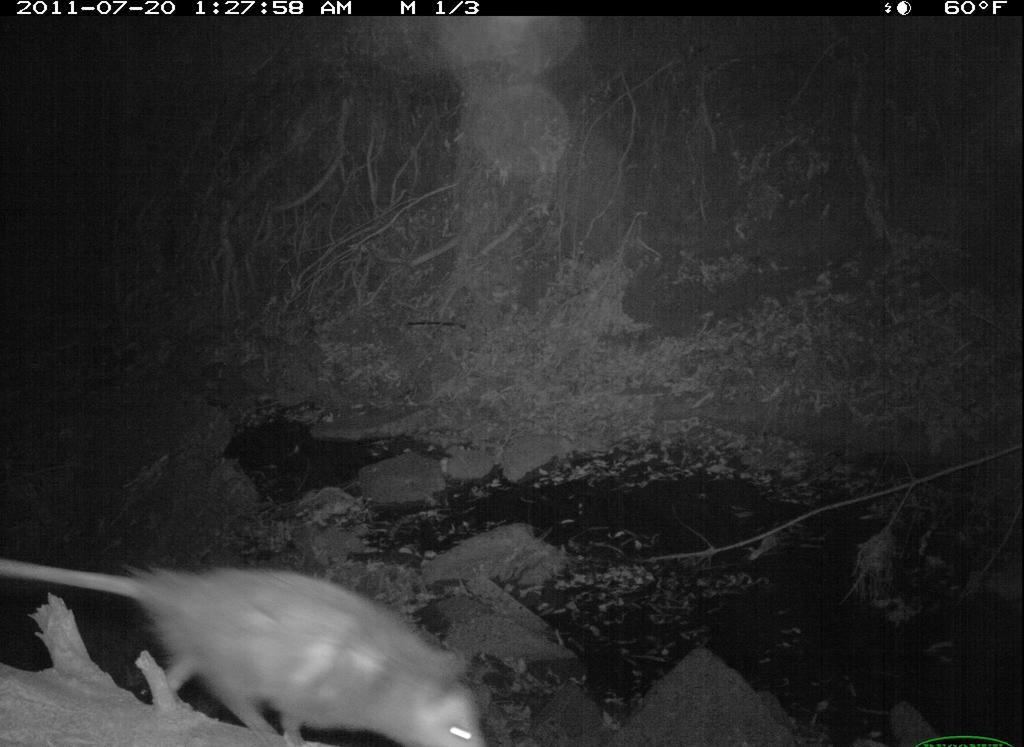opossum: (3, 532, 511, 745)
